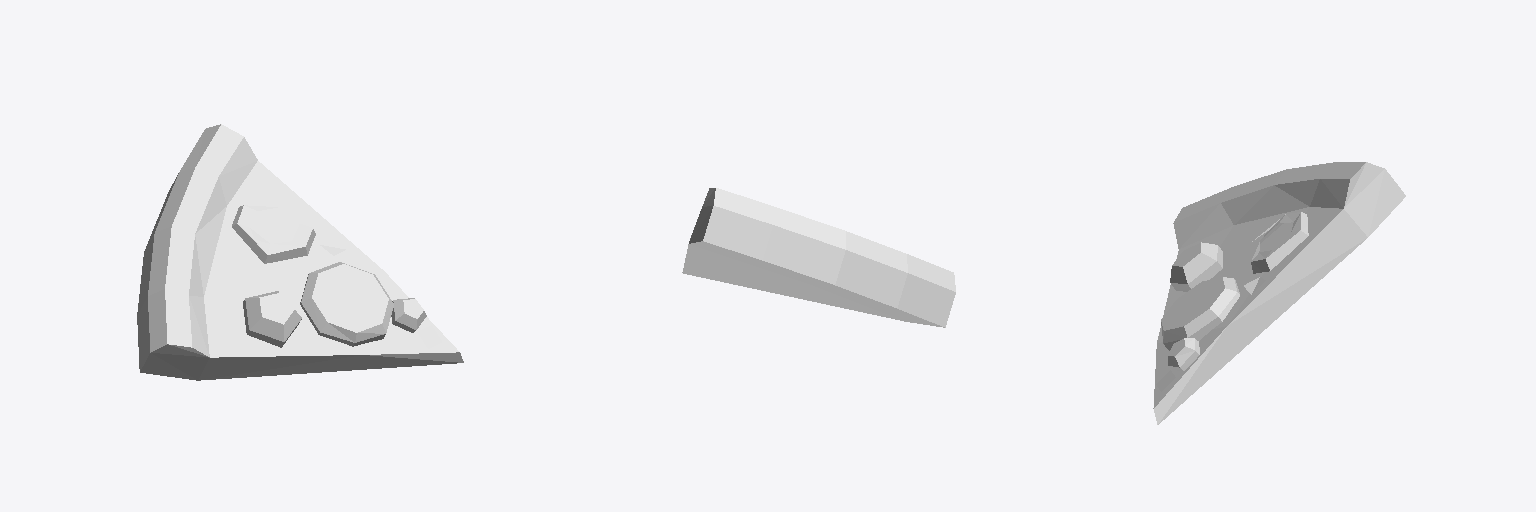
File: TopL.obj
The picture shows the model from 3 angles: view 1: azimuth 30°, elevation 25°; view 2: azimuth 150°, elevation 25°; view 3: azimuth 270°, elevation 25°; orthographic projection.
Visible parts, largest first — view 1: polygon0; view 2: polygon0; view 3: polygon0.
Boxes of the visible parts, x1,y1,x2,y2 form: polygon0: [137, 124, 463, 380]; polygon0: [682, 188, 955, 327]; polygon0: [1153, 162, 1405, 424].
Size of the model in its own units: 1.07 by 0.6812 by 0.7966.